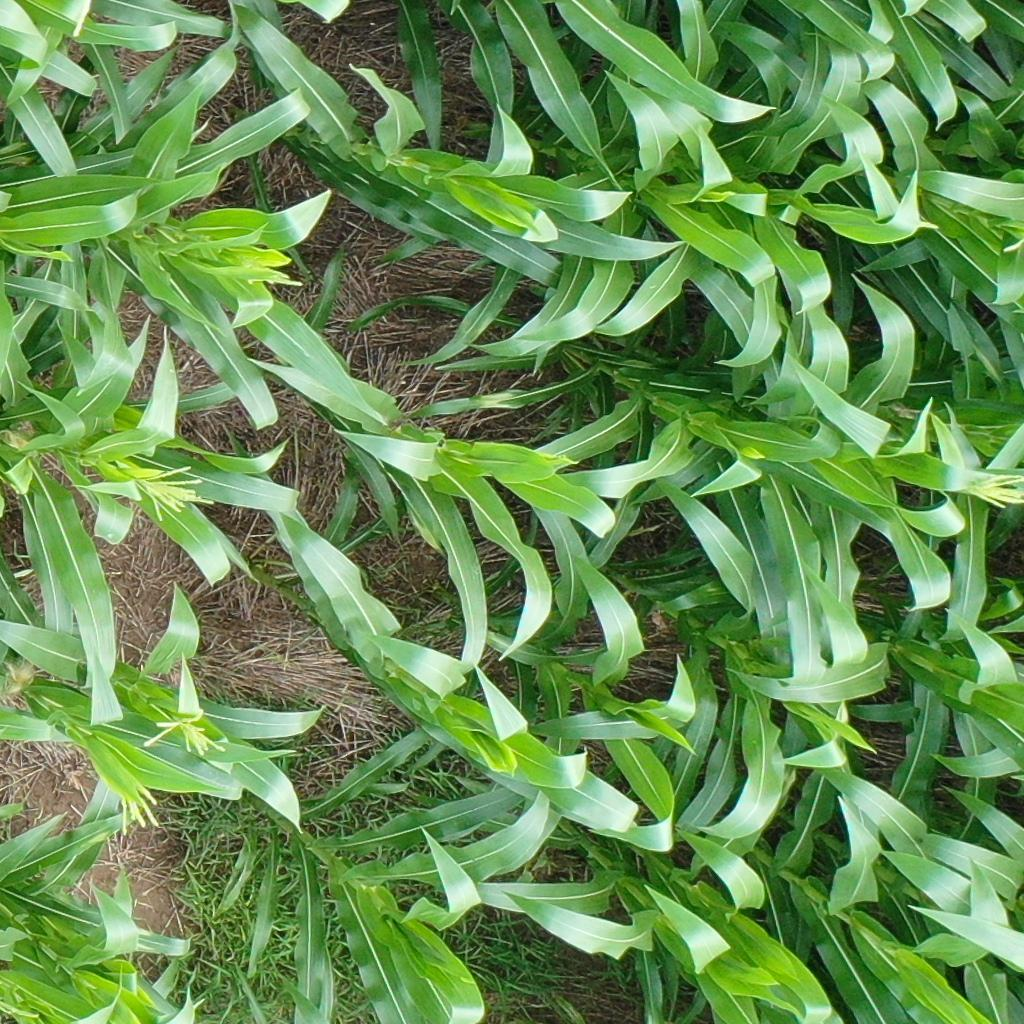Tassel: (141, 706, 233, 759), (134, 464, 216, 518), (116, 782, 167, 838), (962, 469, 1024, 510), (243, 262, 303, 290)
